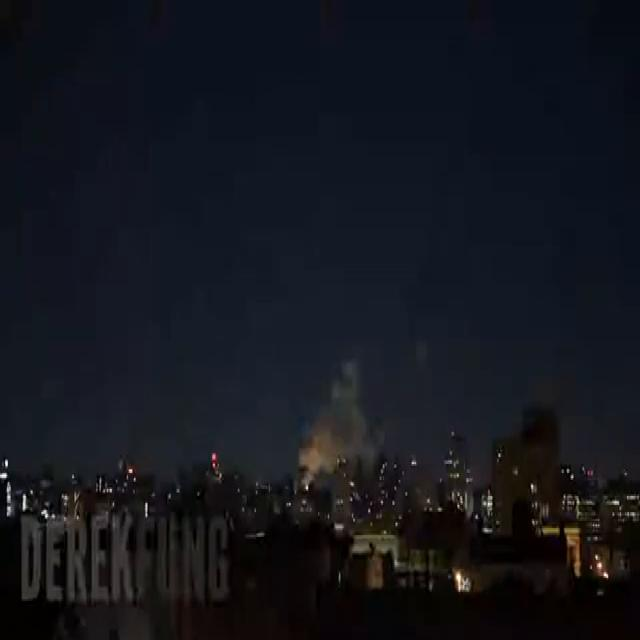smoke: (298, 361, 383, 482), (417, 341, 426, 361)
